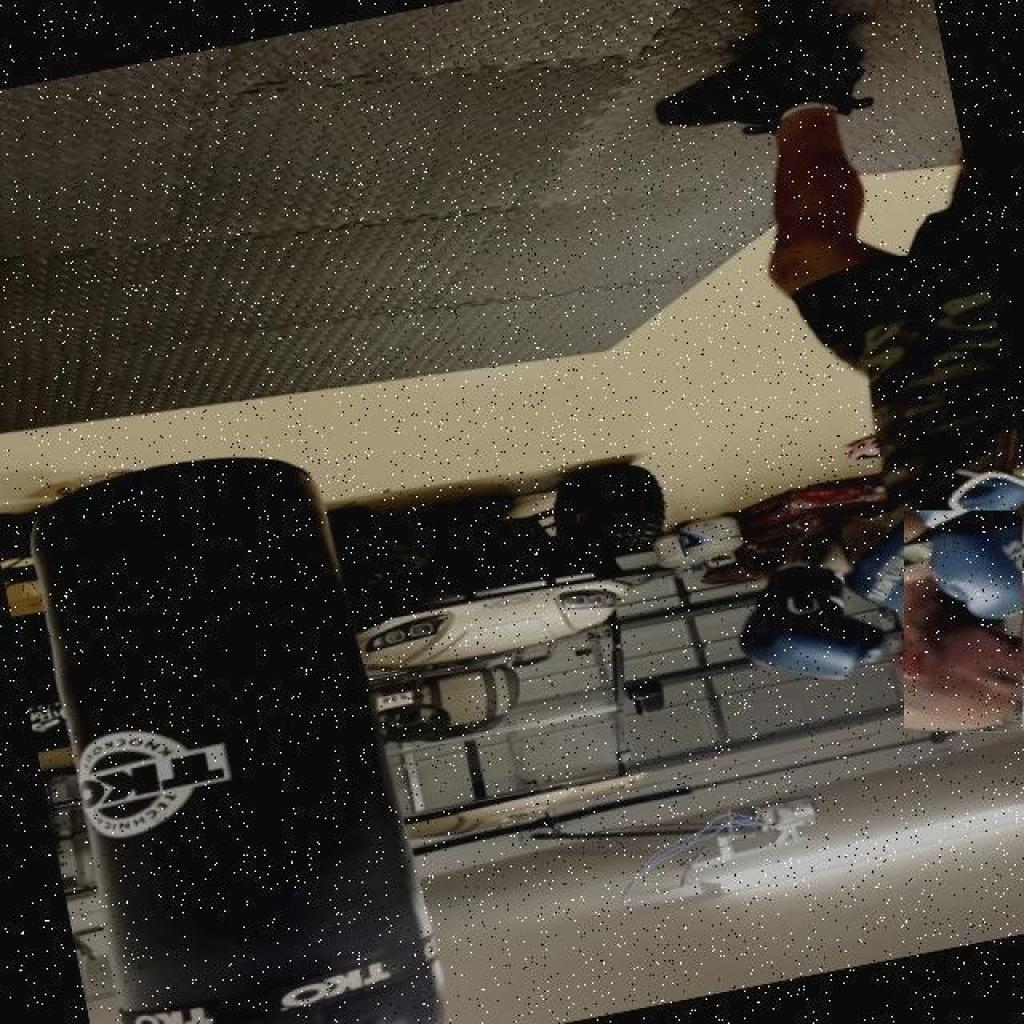bag: (905, 512, 1022, 731)
